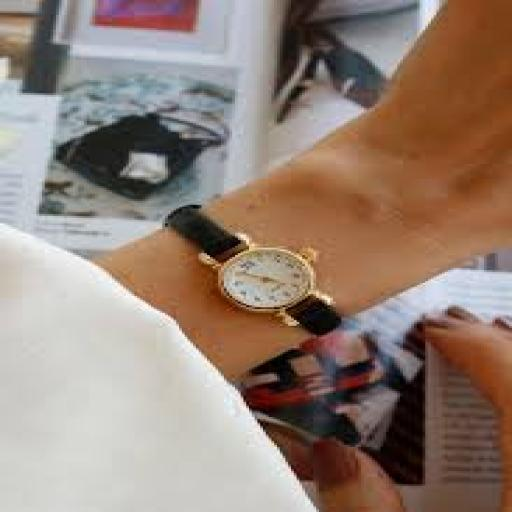KolSaati: (155, 191, 356, 342)
